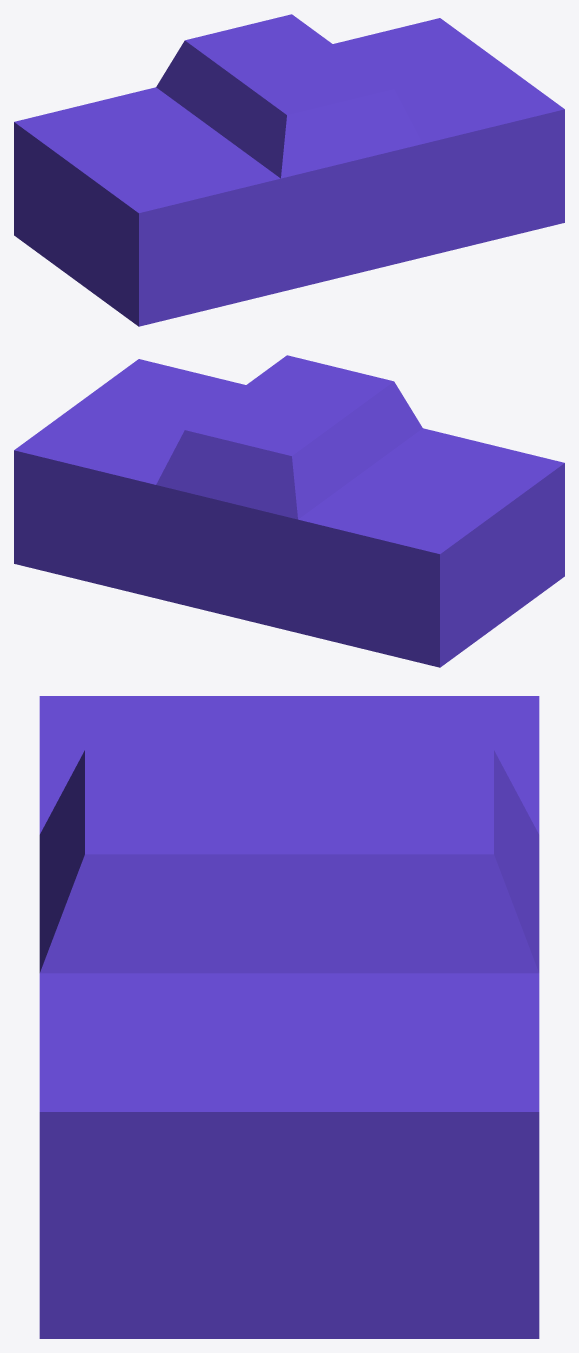
Rendered from car.glb.
3 renders of one model, top to bottom at view 1: azimuth 30°, elevation 25°; view 2: azimuth 150°, elevation 25°; view 3: azimuth 270°, elevation 25°, orthographic. The views are drawn at different scales.
Parts seen in each view (by area): view 1: Car; view 2: Car; view 3: Car.
Boxes of the visible parts, left/top/right/bottom form: Car: left=14, top=14, right=564, bottom=326; Car: left=14, top=355, right=564, bottom=667; Car: left=39, top=696, right=539, bottom=1338.
Size of the model in its own units: 0.6059 by 0.2233 by 0.3074.
